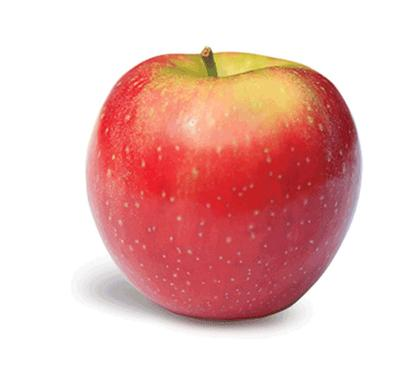apple: (0, 0, 400, 376)
